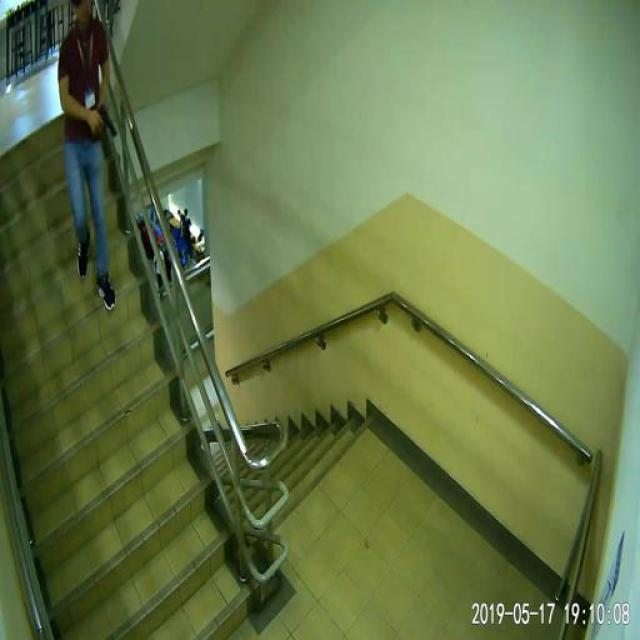Gun: (78, 91, 120, 145)
